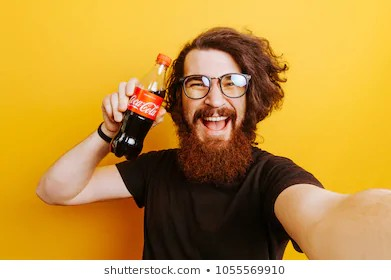coke-bottle-700ml: (108, 53, 174, 161)
